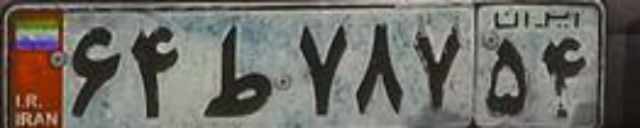4: (130, 28, 179, 119), (540, 37, 590, 118)
5: (484, 36, 529, 116)
6: (68, 25, 122, 116)
7: (413, 22, 464, 110), (296, 23, 344, 116)
8: (355, 22, 403, 114)
taa: (204, 22, 272, 117)
